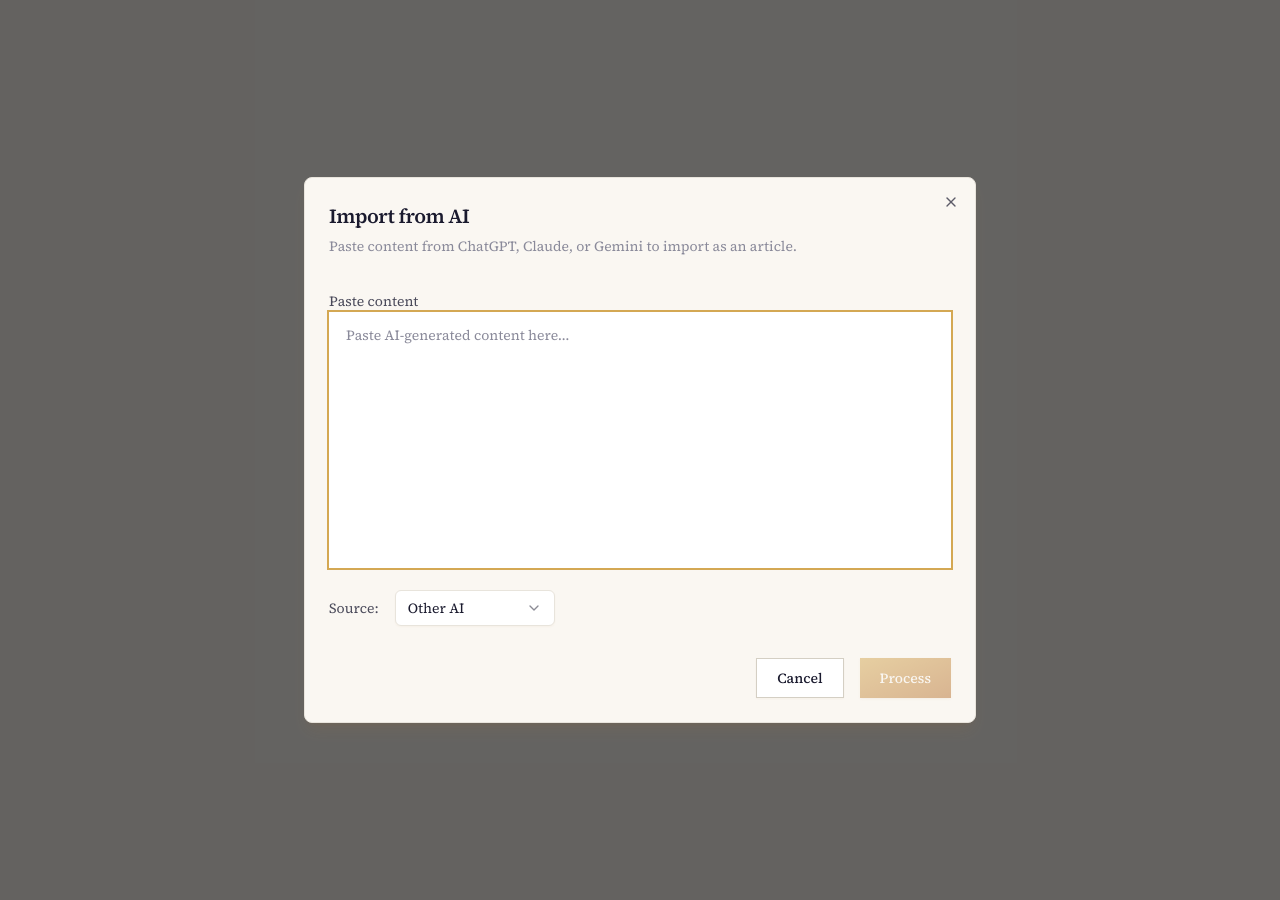
ImportModal › Processing Flow › shows "Please log in..." error when not authenticated
In the text box: (640, 440) [329,312,951,568], type "Test content"
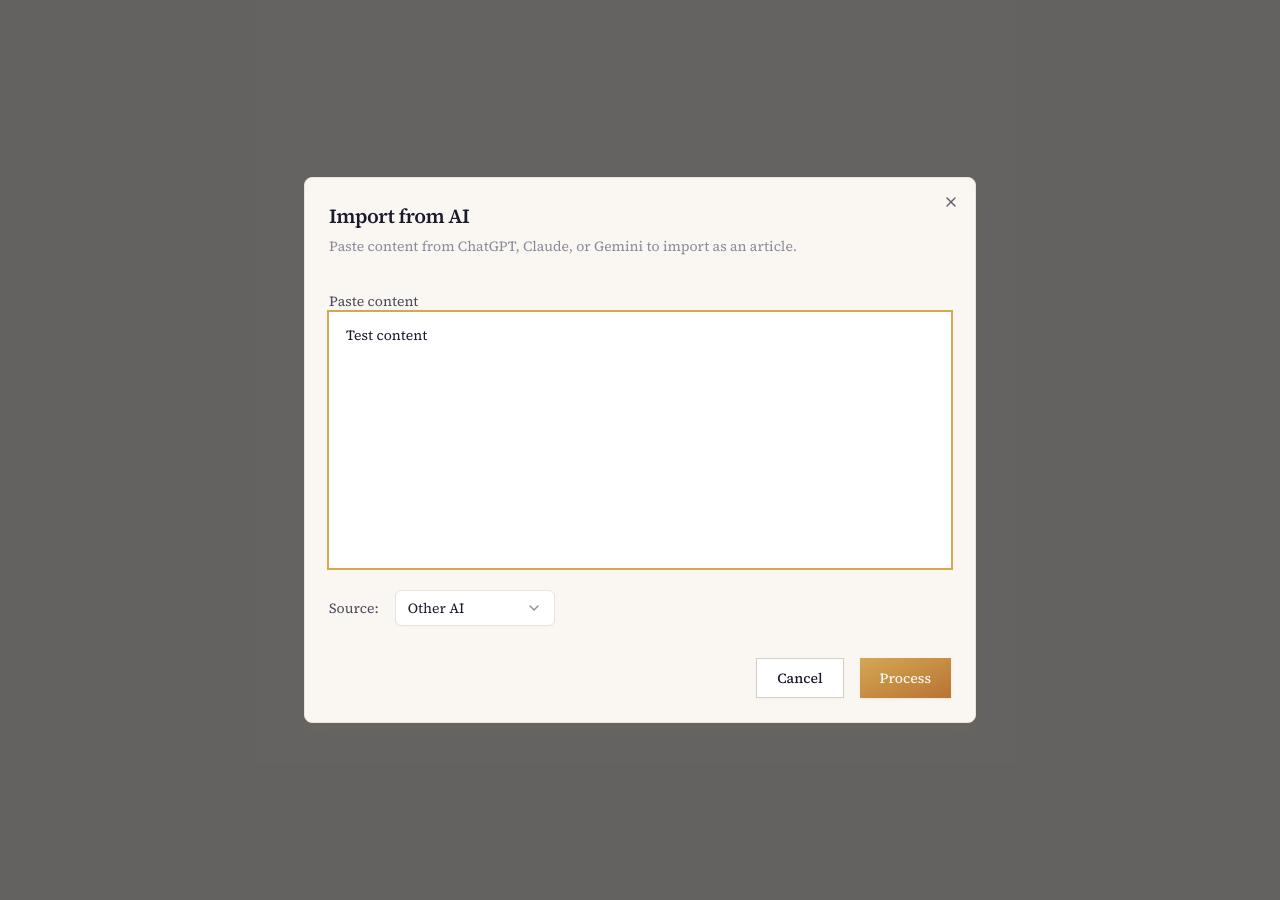
Click the button "Process": (905, 678) [860,658,951,698]
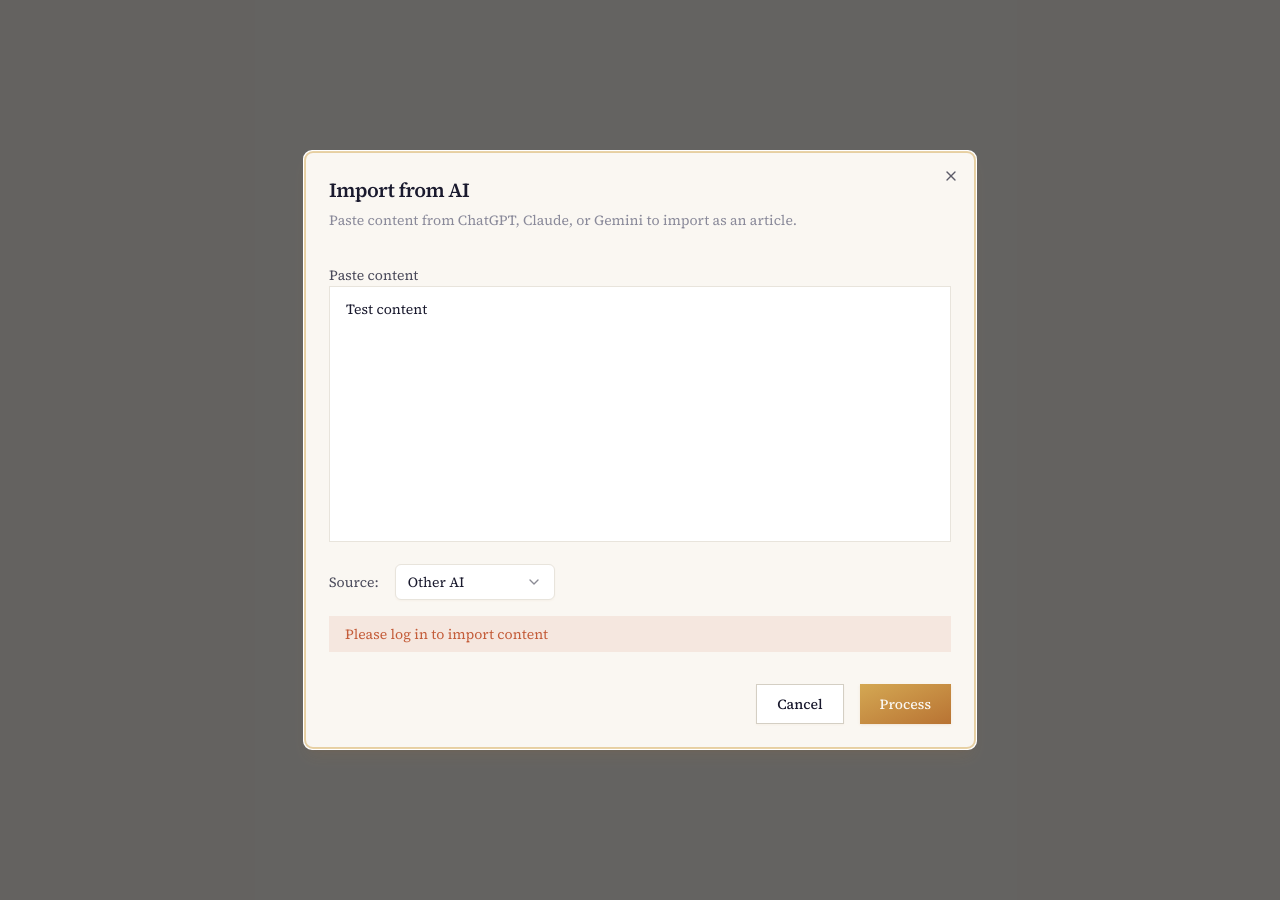
expect the text "Please log in to import content" is shown: met, box [329,616,951,652]
